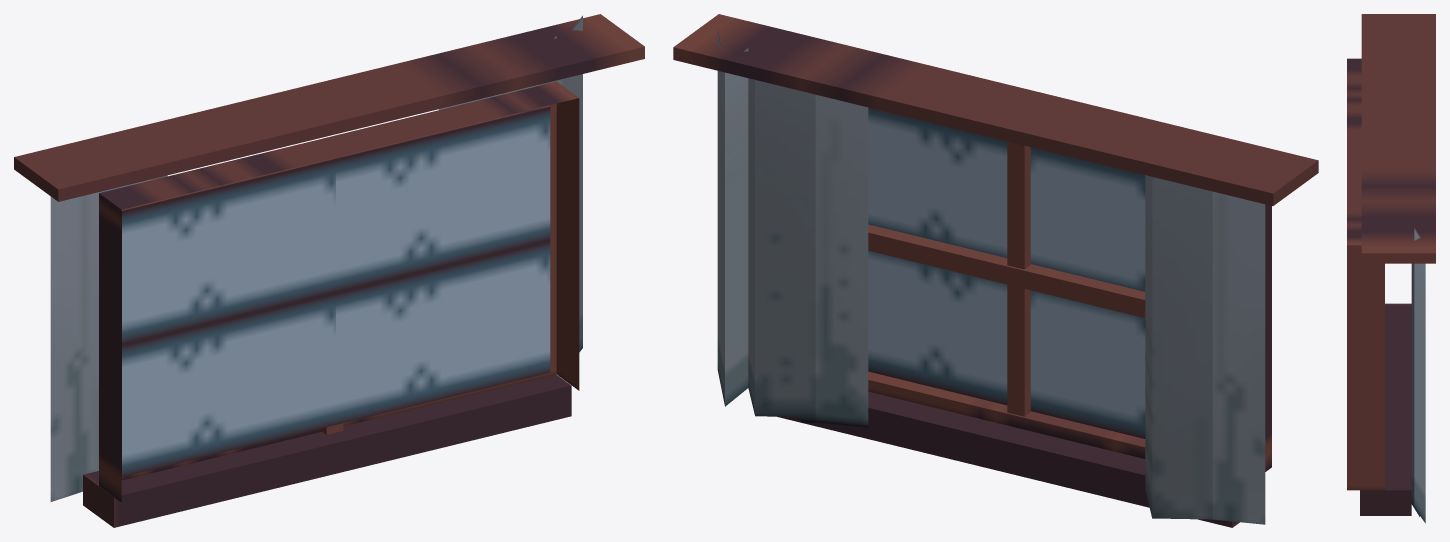
File: JanelaComCortinas.fbx
3 renders of one model, left to right at view 1: azimuth 30°, elevation 25°; view 2: azimuth 150°, elevation 25°; view 3: azimuth 270°, elevation 25°, orthographic. The views are drawn at different scales.
Parts seen in each view (by area): view 1: JanelaComCortina; view 2: JanelaComCortina; view 3: JanelaComCortina.
Boxes of the visible parts, x1,y1,x2,y2 form: JanelaComCortina: [14, 14, 644, 527]; JanelaComCortina: [673, 14, 1318, 527]; JanelaComCortina: [1347, 14, 1435, 523].
Size of the model in its own units: 288 by 45.24 by 174.
